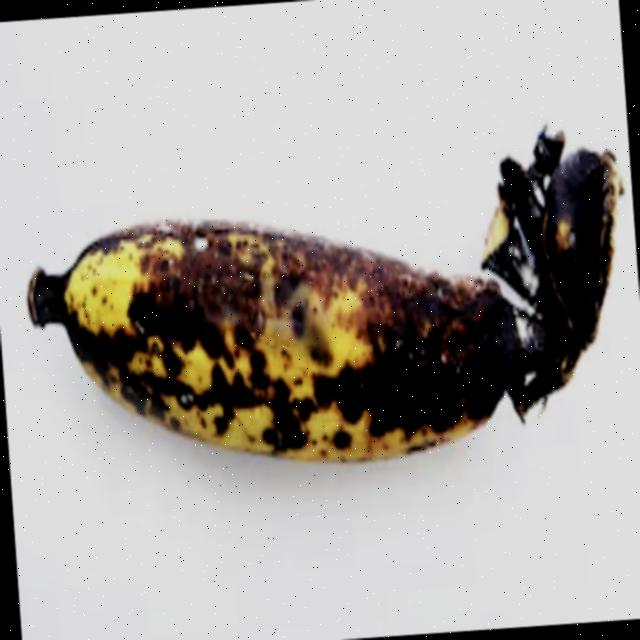Rotten: (0, 51, 640, 511)
